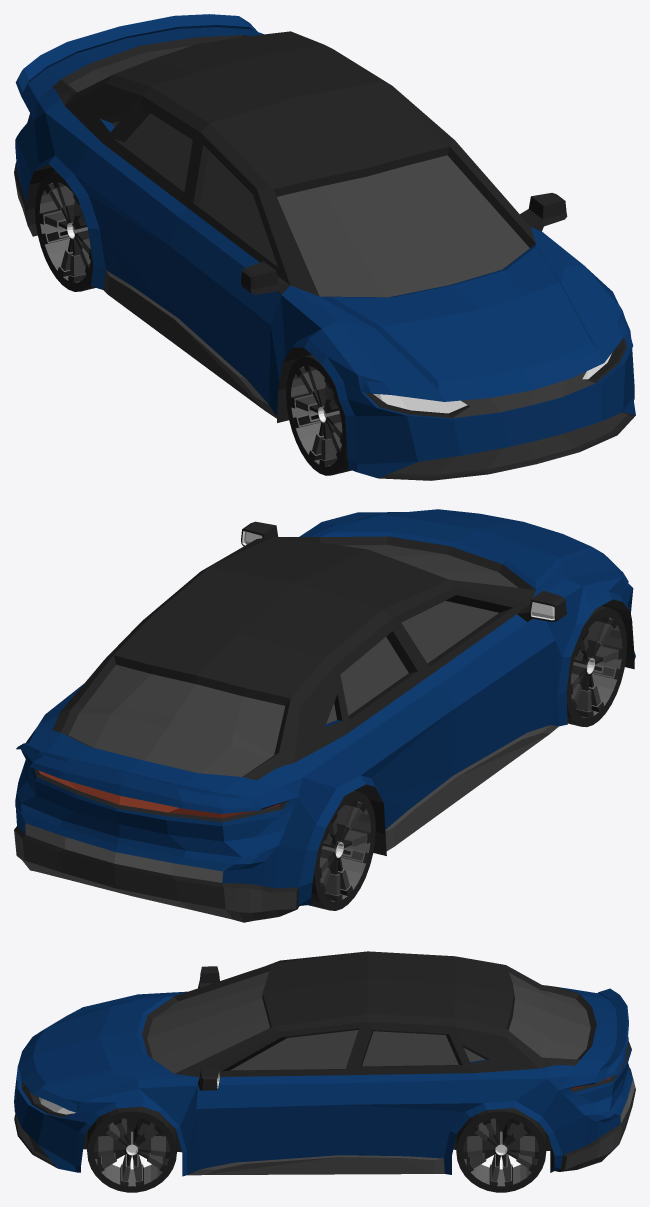
The model's file is lucidairsapphire.fbx.
3 renders of one model, top to bottom at view 1: azimuth 30°, elevation 25°; view 2: azimuth 150°, elevation 25°; view 3: azimuth 270°, elevation 25°, orthographic. The views are drawn at different scales.
Parts seen in each view (by area): view 1: BlueBody, FrontRight, BackRight; view 2: BlueBody, BackRight, FrontRight; view 3: BlueBody, FrontLeft, BackLeft.
Boxes of the visible parts, <box> form: BlueBody: <box>14,14,635,480</box>; FrontRight: <box>286,354,351,475</box>; BackRight: <box>35,171,95,291</box>; BlueBody: <box>14,509,635,922</box>; BackRight: <box>308,790,375,910</box>; FrontRight: <box>566,606,626,727</box>; BlueBody: <box>14,951,635,1176</box>; FrontLeft: <box>87,1106,176,1192</box>; BackLeft: <box>456,1108,546,1192</box>.
Bounding box in the file's own units: 2.14 × 4.95 × 1.44.
